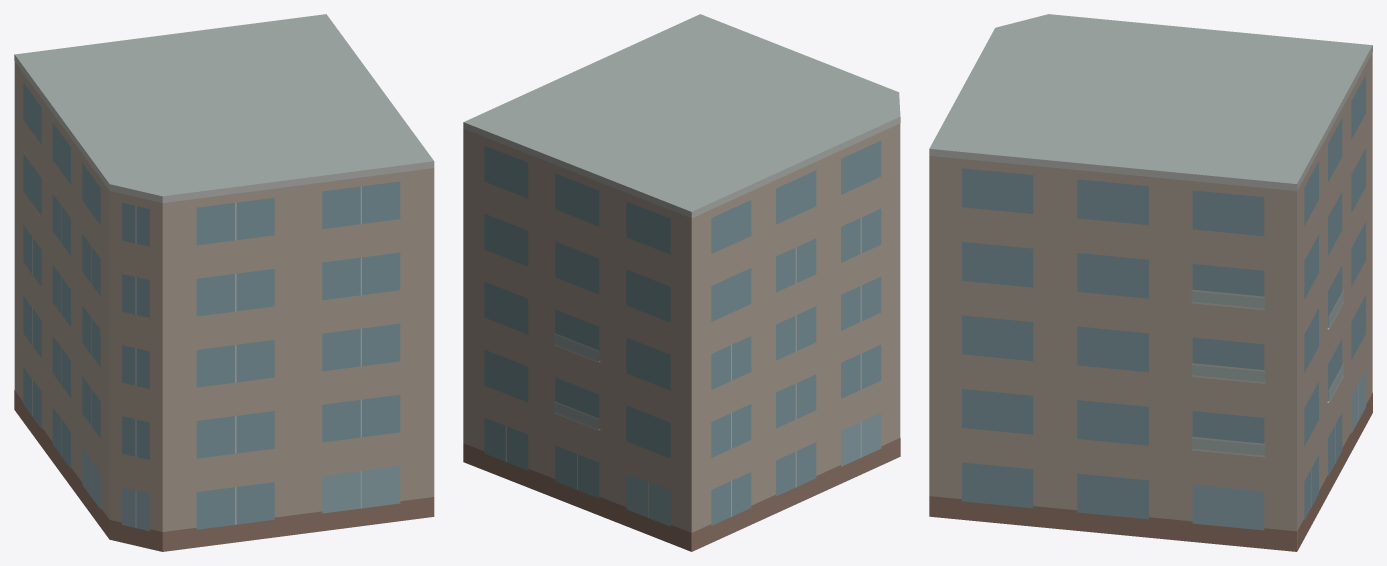
The model's file is survey-upis-32660311.glb.
3 views of the same model, side by side, from view 1: azimuth 30°, elevation 25°; view 2: azimuth 150°, elevation 25°; view 3: azimuth 270°, elevation 25° (orthographic). The views are drawn at different scales.
Visible parts, largest first — view 1: survey-upis-32660311.tmp; view 2: survey-upis-32660311.tmp; view 3: survey-upis-32660311.tmp.
Part boxes in pixels (left/top/right/bottom): survey-upis-32660311.tmp: left=14, top=14, right=434, bottom=551; survey-upis-32660311.tmp: left=463, top=14, right=900, bottom=551; survey-upis-32660311.tmp: left=929, top=14, right=1372, bottom=551.
Size of the model in its own units: 12.71 by 12.8 by 14.
